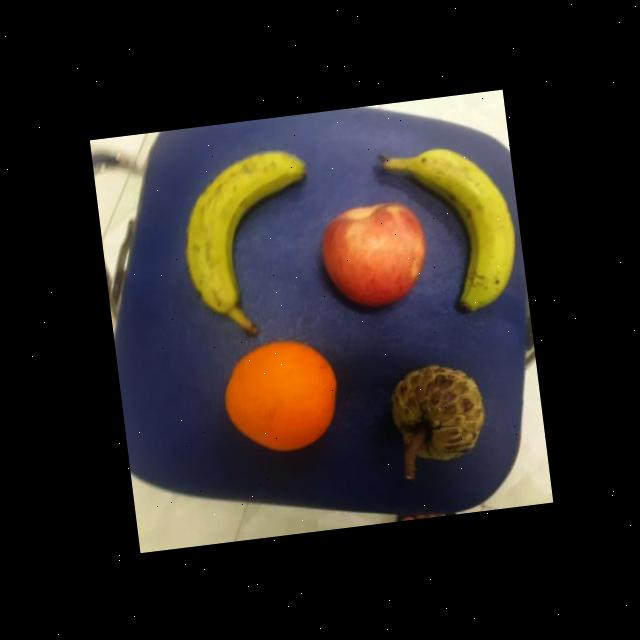Sakya fruit: (384, 357, 489, 467)
apple: (315, 195, 434, 312)
banana: (169, 144, 326, 317), (404, 131, 522, 316)
orange: (214, 332, 344, 458)
